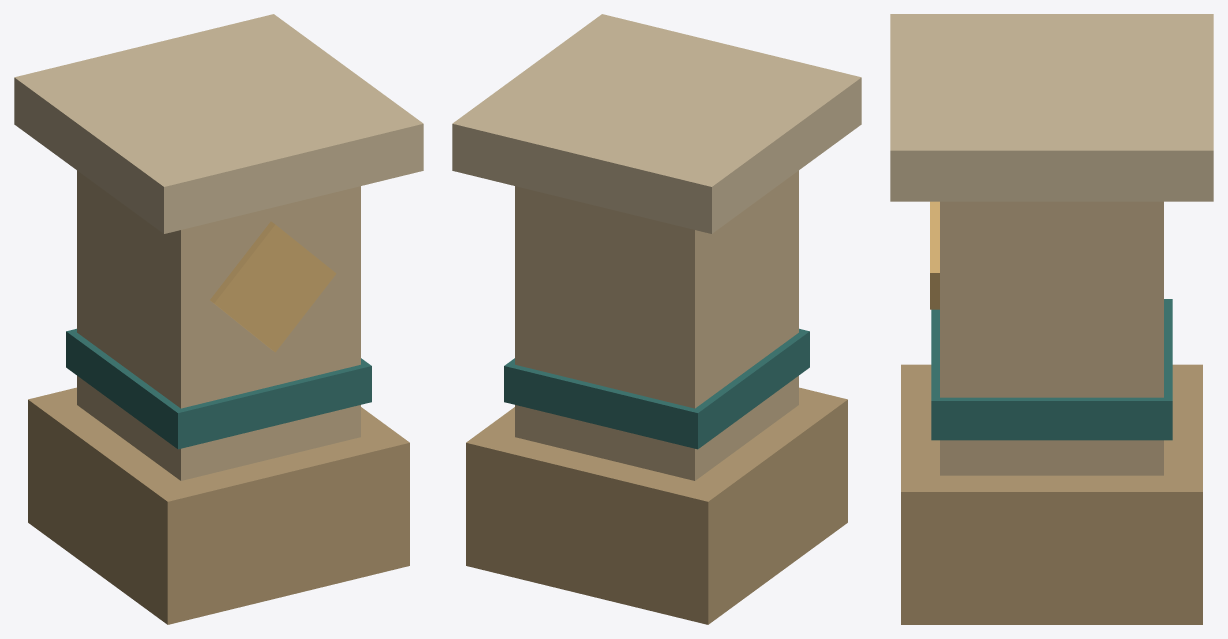
File: courtyard-lantern.glb
3 views of the same model, side by side, from view 1: azimuth 30°, elevation 25°; view 2: azimuth 150°, elevation 25°; view 3: azimuth 270°, elevation 25° (orthographic). The views are drawn at different scales.
Visible parts, largest first — view 1: courtyard-lantern-surface; view 2: courtyard-lantern-surface; view 3: courtyard-lantern-surface.
Part boxes in pixels (box(x1,y1,x2,y2)): courtyard-lantern-surface: box(14, 14, 423, 624); courtyard-lantern-surface: box(452, 14, 861, 624); courtyard-lantern-surface: box(890, 14, 1213, 624).
Bounding box in the file's own units: 0.75 × 1.23 × 0.75.
